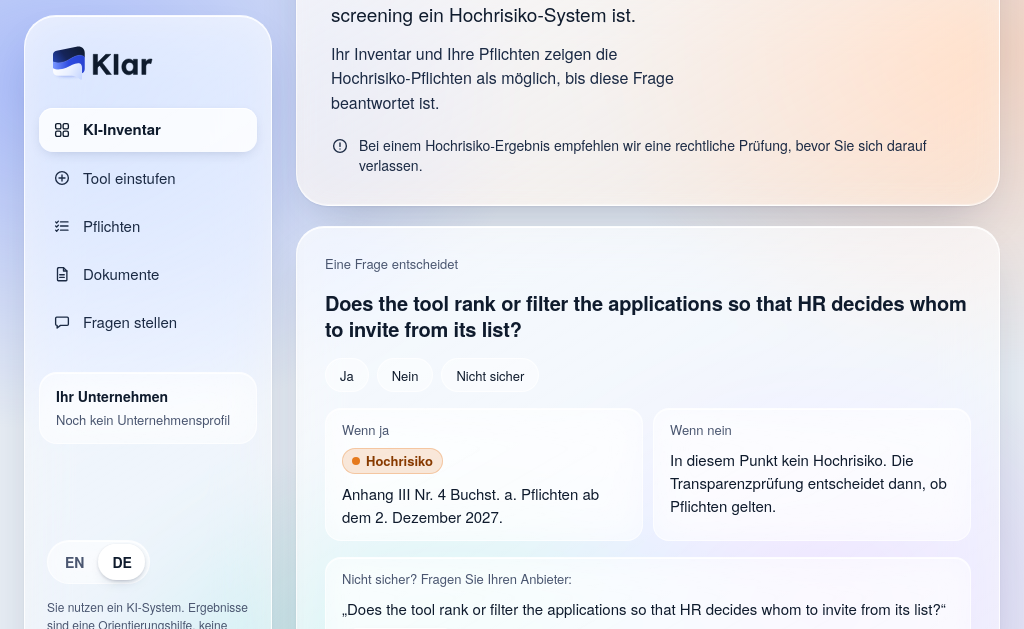
Answering the question that decides a result › names the run and where the checks stand when the re-run still waits (de)
The image size is (1024, 629).
(page scrolled)
What coordinates should you click on to do the following:
click the button "Nein"
I would click on:
 (405, 375)
Its box is [377,358,433,392].
(page scrolled)
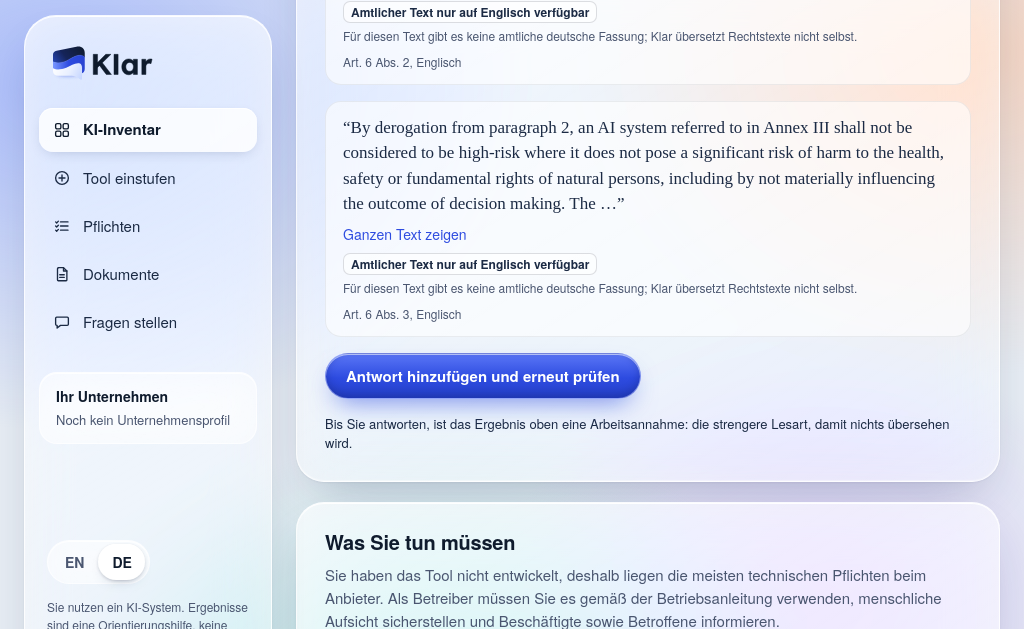
What coordinates should you click on to do the following:
click the button "Antwort hinzufügen und erneut prüfen"
I would click on:
 (483, 376)
Its box is [325,352,641,399].
(page scrolled)
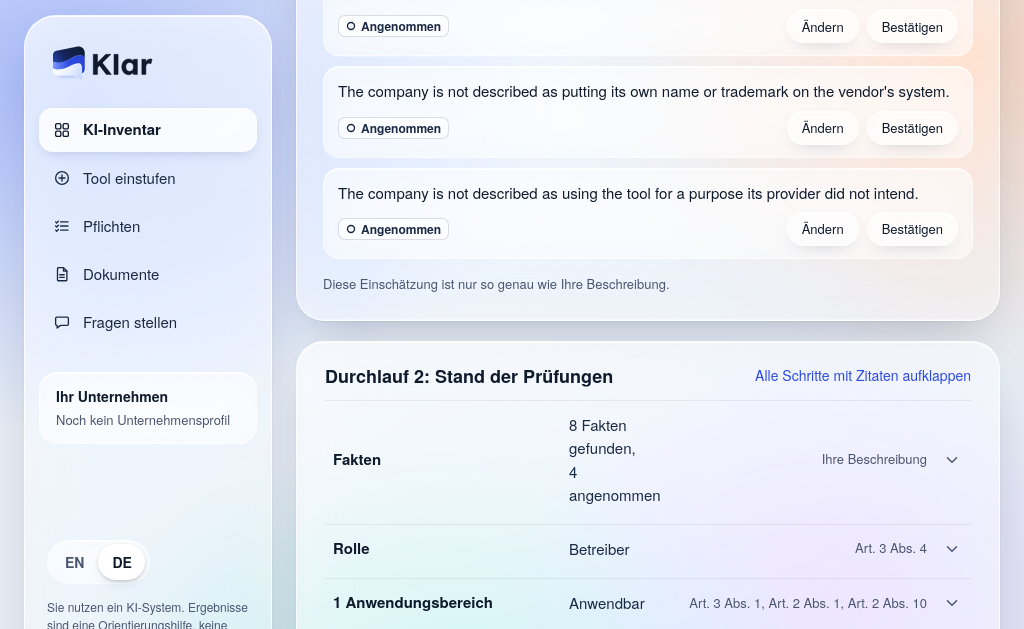
Result: the heading "Durchlauf 2: Stand der Prüfungen" is shown at [325,364,613,388]
